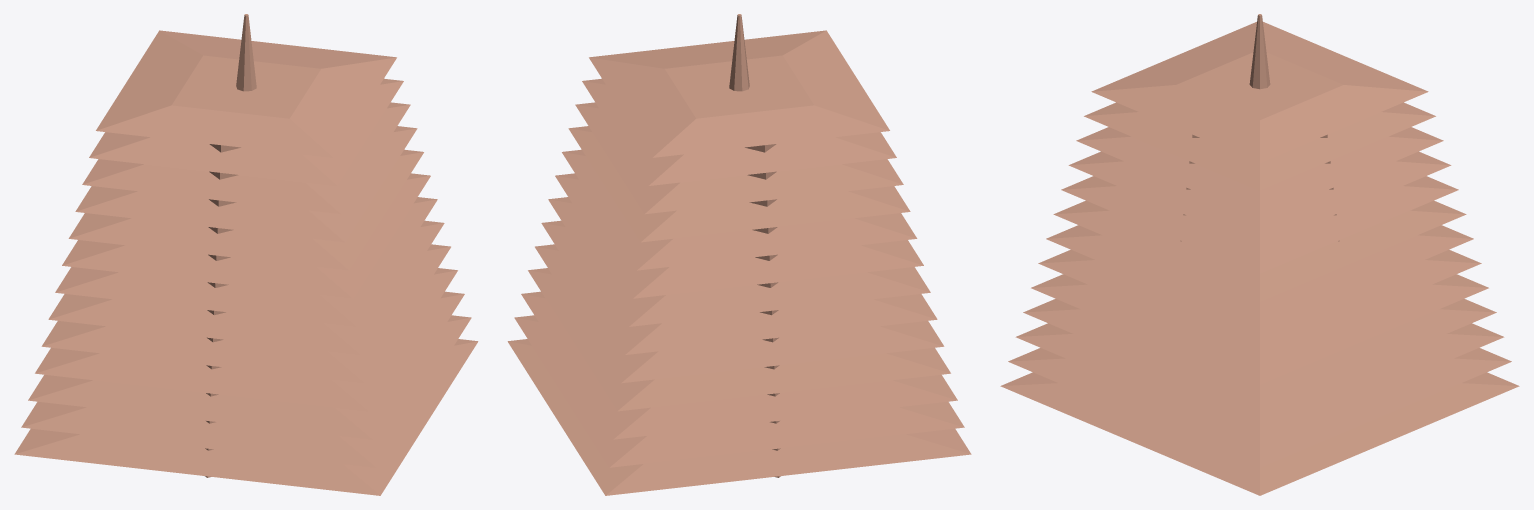
The model's file is place-tianning-temple-pagoda-beijing.glb.
3 renders of one model, left to right at view 1: azimuth 30°, elevation 25°; view 2: azimuth 150°, elevation 25°; view 3: azimuth 270°, elevation 25°, orthographic. The views are drawn at different scales.
Parts seen in each view (by area): view 1: place-tianning-temple-pagoda-beijing; view 2: place-tianning-temple-pagoda-beijing; view 3: place-tianning-temple-pagoda-beijing.
Boxes of the visible parts, x1=… form: place-tianning-temple-pagoda-beijing: x1=14, y1=14, x2=478, y2=495; place-tianning-temple-pagoda-beijing: x1=507, y1=14, x2=971, y2=495; place-tianning-temple-pagoda-beijing: x1=1000, y1=14, x2=1519, y2=495.
Size of the model in its own units: 70 by 57.8 by 70.
